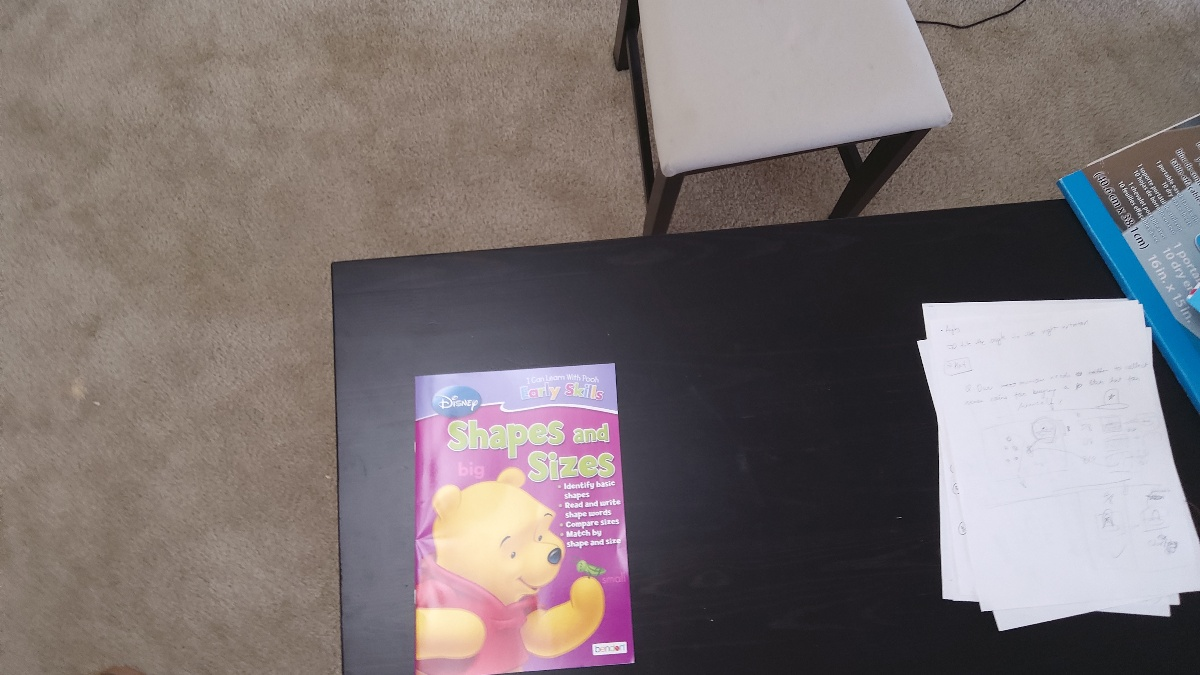book: (418, 377, 616, 664)
